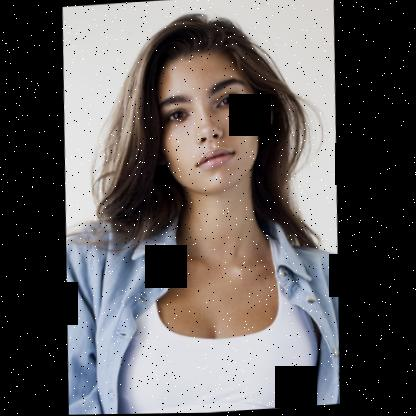Female: (156, 47, 278, 194)
